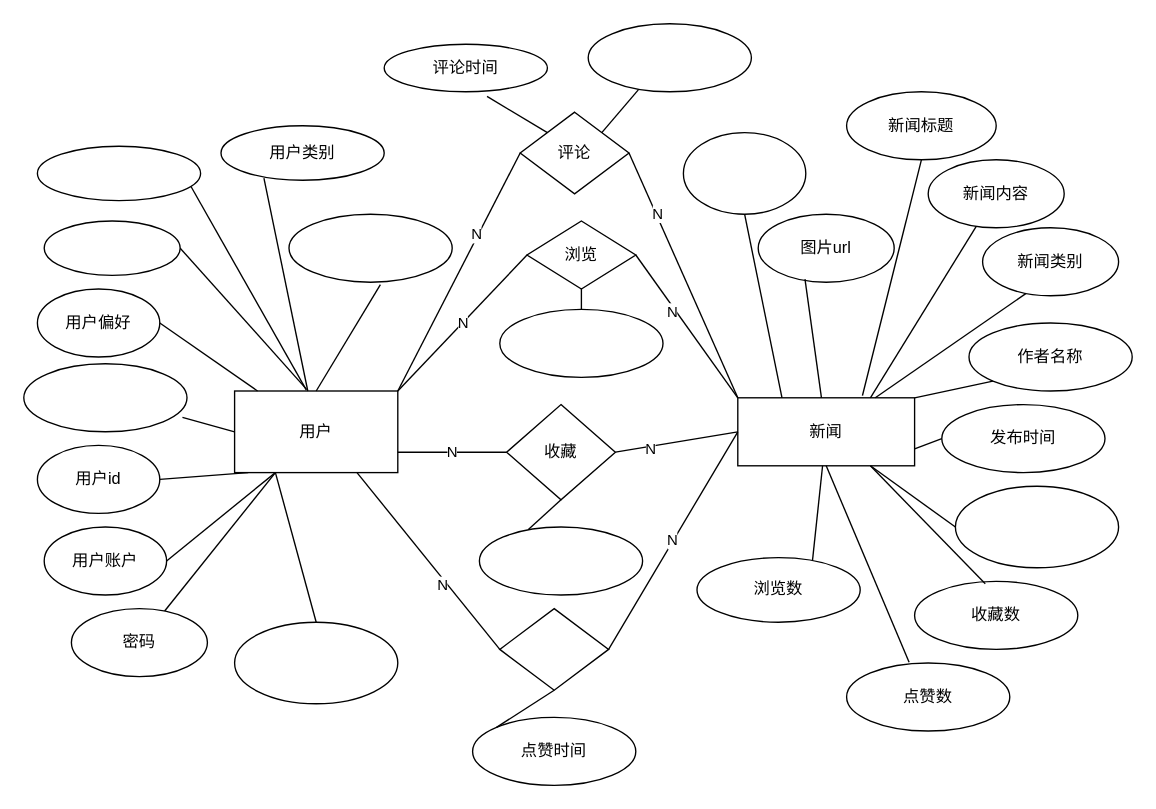
This 1156x809 diagram has some shape labels left out. Each missing label, with the centre of its shape:
初次登录: pixel 104 397
手机号码: pixel 118 173
收藏时间: pixel 560 560
新闻id: pixel 744 172
浏览时间: pixel 580 342
点赞: pixel 553 648
用户头像: pixel 315 662
用户性别: pixel 111 247
用户昵称: pixel 370 247
评论内容: pixel 669 57
评论数: pixel 1036 526
